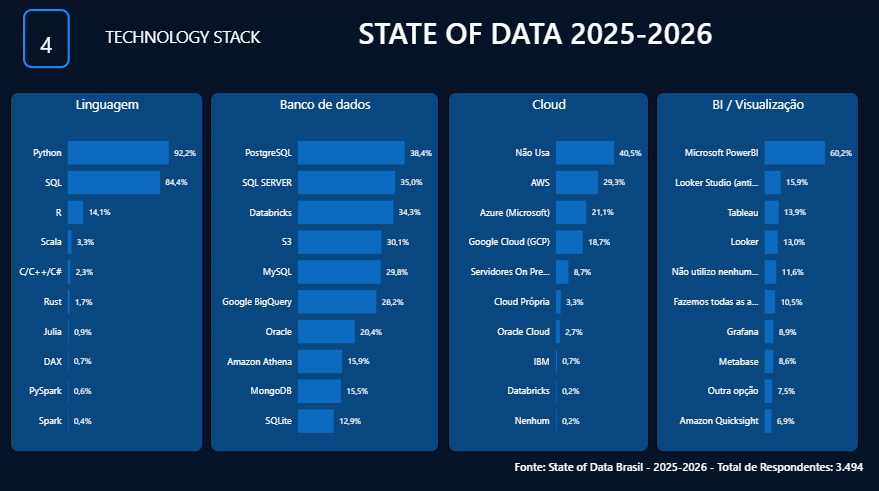

What the dashboard file says about the page in this screenshot:
{"tool":"powerbi","page":{"name":"Tech Stack","canvas":[1280,720],"ordinal":3},"visuals":[{"type":"clusteredBarChart","title":"Linguagem","fields":{"Y":["CountNonNull(linguagem_preferida.ID)"],"Category":["linguagem_preferida.linguagem_preferida"]},"box":[16,135.3,280.7,523.6],"z":0},{"type":"clusteredBarChart","title":"Banco de dados","fields":{"Category":["banco_dados.banco_de_dados_(dia_a_dia)"],"Y":["CountNonNull(banco_dados.ID)"]},"box":[306.9,135.3,333.1,523.6],"z":1000},{"type":"clusteredBarChart","title":"Cloud","fields":{"Y":["CountNonNull(cloud.ID)"],"Category":["cloud.cloud_(dia_a_dia)"]},"box":[653.1,135.3,292.4,523.6],"z":2000},{"type":"clusteredBarChart","title":"BI / Visualização","fields":{"Y":["CountNonNull(ferramenta_bi.ID)"],"Category":["ferramenta_bi.ferramenta_de_bi_(dia_a_dia)"]},"box":[955.6,135.3,295.3,523.6],"z":3000},{"type":"textbox","box":[34.9,14.5,68.4,85.8],"z":4000},{"type":"textbox","box":[103.3,33.5,327.3,85.8],"z":5000},{"type":"textbox","box":[446.5,14.5,667.6,104.7],"z":6000},{"type":"textbox","box":[744.4,665.3,535.6,43.8],"z":6001}]}

Visuals, with their boxes in screenshot pixels (x1, y1, x2, y2), scaled from the page's 1280x720 canvas onto the 879x491 screenshot:
"Linguagem" clusteredBarChart: 11,92,204,449
"Banco de dados" clusteredBarChart: 211,92,440,449
"Cloud" clusteredBarChart: 448,92,649,449
"BI / Visualização" clusteredBarChart: 656,92,859,449
textbox: 24,10,71,68
textbox: 71,23,296,81
textbox: 307,10,765,81
textbox: 511,454,878,484
